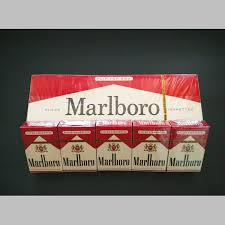marlboro: (24, 129, 60, 174), (131, 128, 168, 171), (95, 127, 131, 171), (169, 128, 203, 172), (62, 128, 95, 172)
